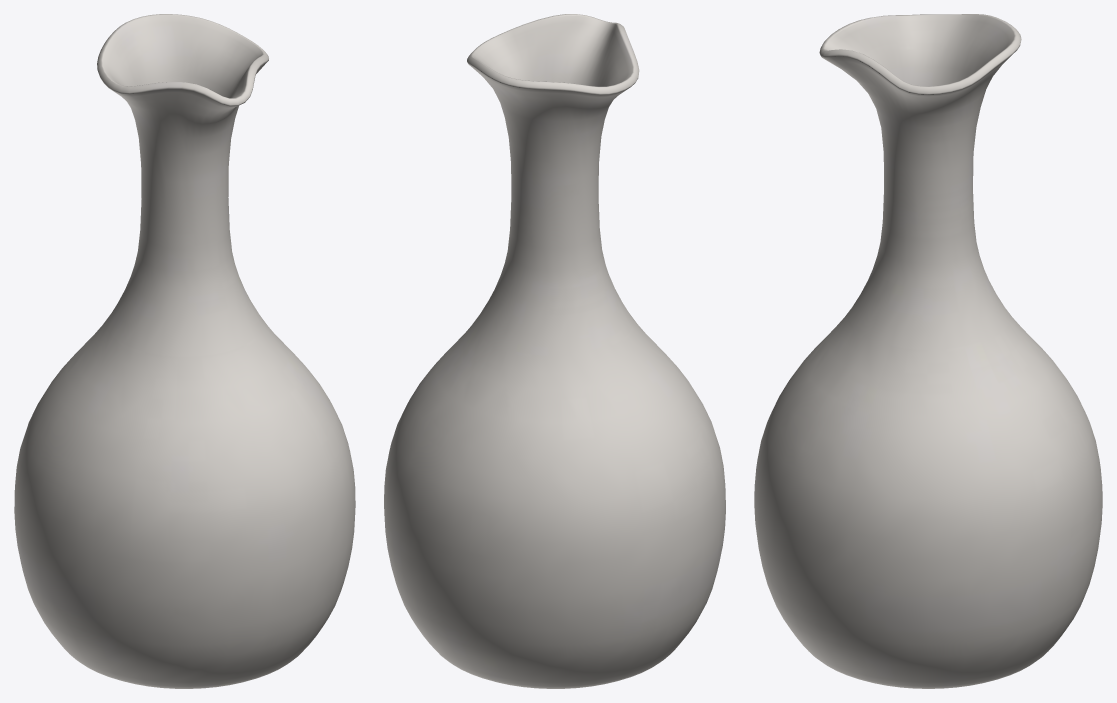
File: vase-ceramic.glb
The picture shows the model from 3 angles, left to right: view 1: azimuth 30°, elevation 25°; view 2: azimuth 150°, elevation 25°; view 3: azimuth 270°, elevation 25°; orthographic projection. The views are drawn at different scales.
Visible parts, largest first — view 1: ceramic_vase_01; view 2: ceramic_vase_01; view 3: ceramic_vase_01.
Part boxes in pixels (left/top/right/bottom): ceramic_vase_01: left=14, top=14, right=355, bottom=688; ceramic_vase_01: left=384, top=14, right=725, bottom=688; ceramic_vase_01: left=754, top=14, right=1102, bottom=688.
Bounding box in the file's own units: 0.26 × 0.5 × 0.26.
Materials: 1 (1 with a texture image).
